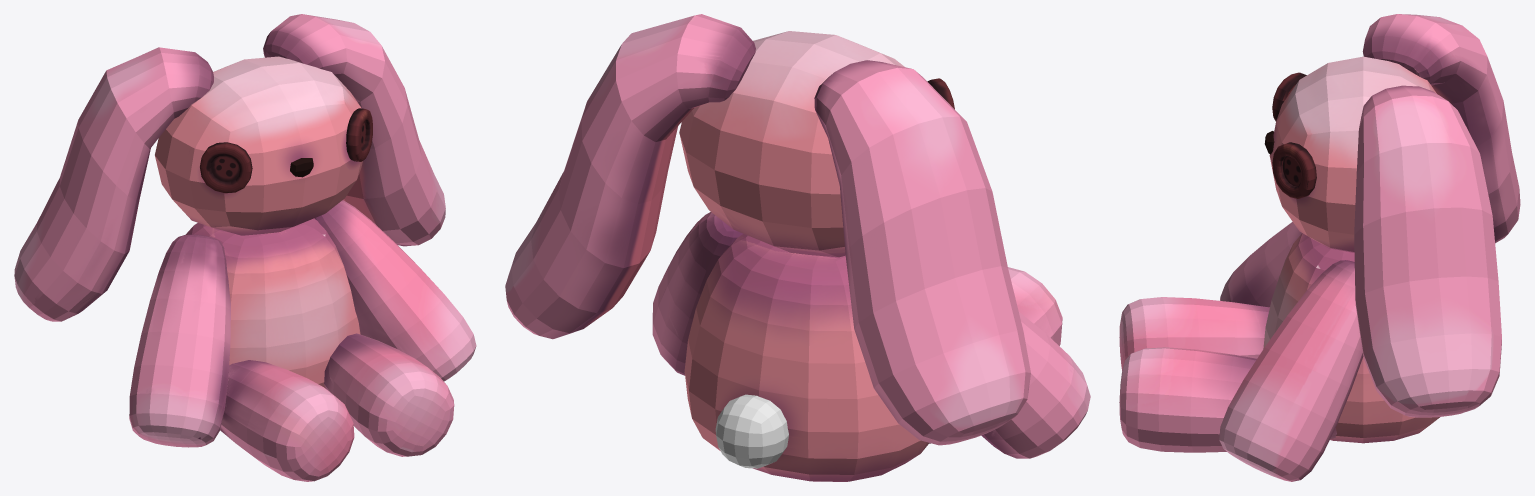
File: KaninBamse.fbx
3 renders of one model, left to right at view 1: azimuth 30°, elevation 25°; view 2: azimuth 150°, elevation 25°; view 3: azimuth 270°, elevation 25°, orthographic. The views are drawn at different scales.
Visible parts, largest first — view 1: Cube.001, Cube, Cube.005; view 2: Cube.001, Cube, Cube.002; view 3: Cube.001, Cube, Cube.005.
Part boxes in pixels (x1,y1,x2,y2): Cube.001: (14, 14, 476, 481); Cube: (155, 56, 362, 388); Cube.005: (200, 108, 372, 193); Cube.001: (505, 14, 1090, 458); Cube: (679, 31, 929, 481); Cube.002: (715, 394, 788, 468); Cube.001: (1119, 14, 1520, 481); Cube: (1263, 56, 1439, 443); Cube.005: (1272, 72, 1316, 198).
Bounding box in the file's own units: 450 × 362 × 359.
